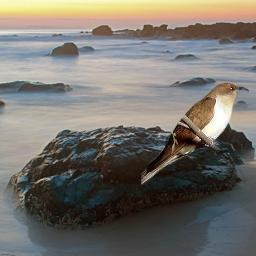Cuckoo: (141, 81, 249, 185)
